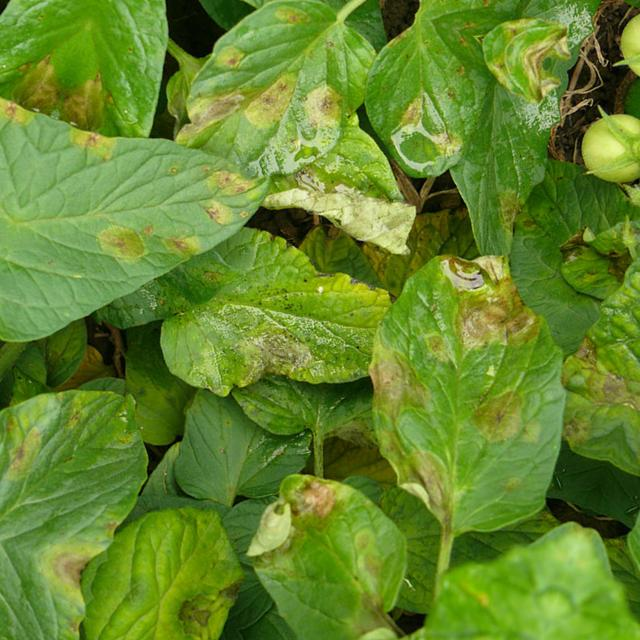Tomato leaf late blight: (0, 73, 326, 485), (306, 223, 633, 565), (121, 165, 433, 436), (147, 0, 410, 234), (184, 436, 470, 640), (0, 334, 190, 588), (65, 459, 282, 632), (328, 2, 514, 200), (444, 32, 579, 129)
